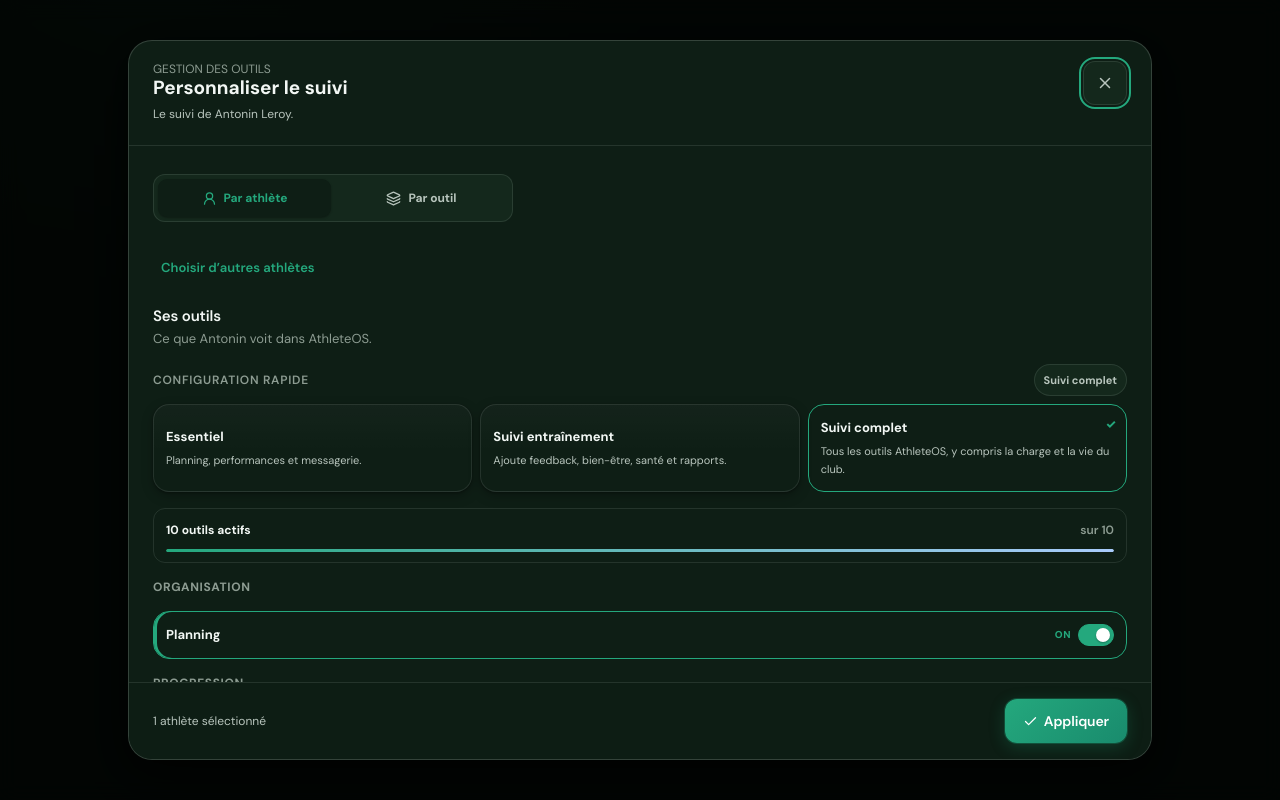
Test case: gestion des outils athlète › permet toujours de passer d’un athlète à plusieurs
Click the button "Choisir d’autres athlètes".
click(238, 268)  # box [153, 246, 323, 290]
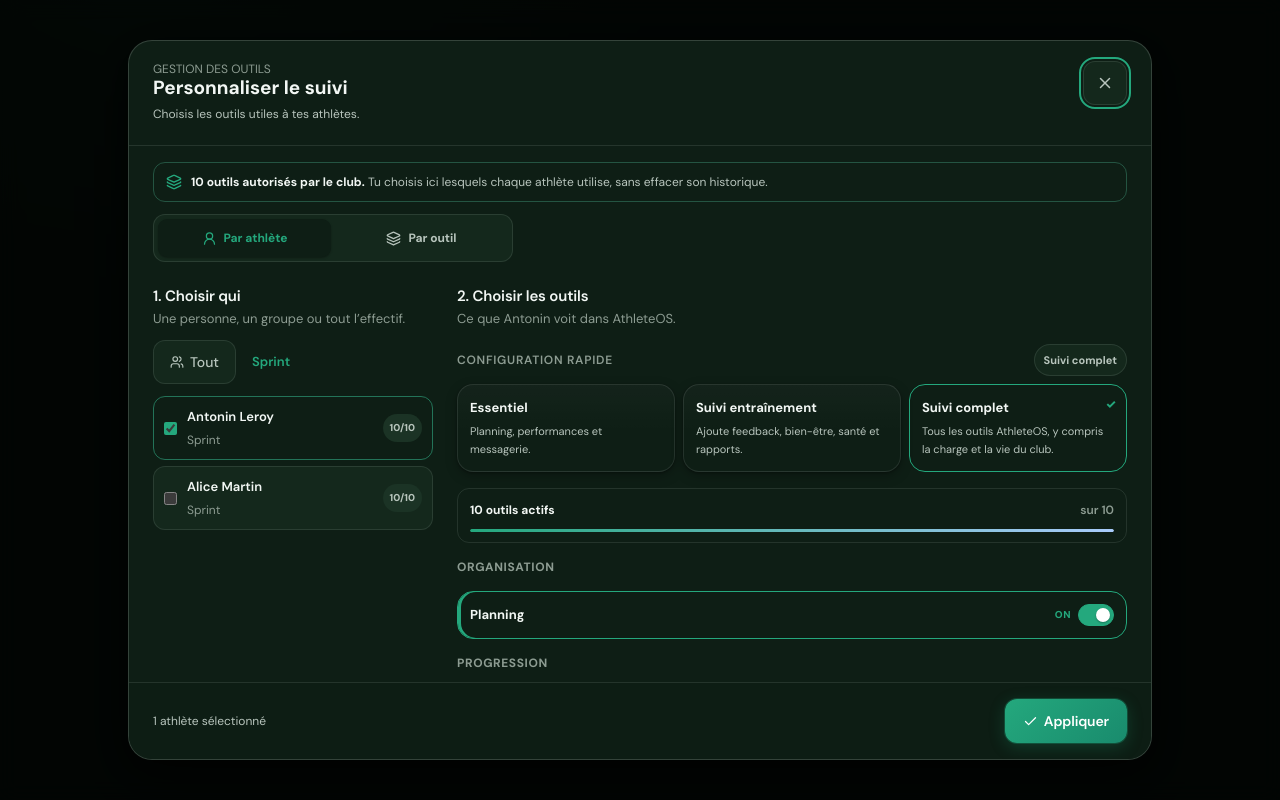
Expected: the number of checkboxes is 2, [164, 422, 177, 434]; [164, 492, 177, 504]
Expected: the checkbox labelled "Antonin Leroy Sprint 10/10" is checked, [164, 422, 177, 434]
